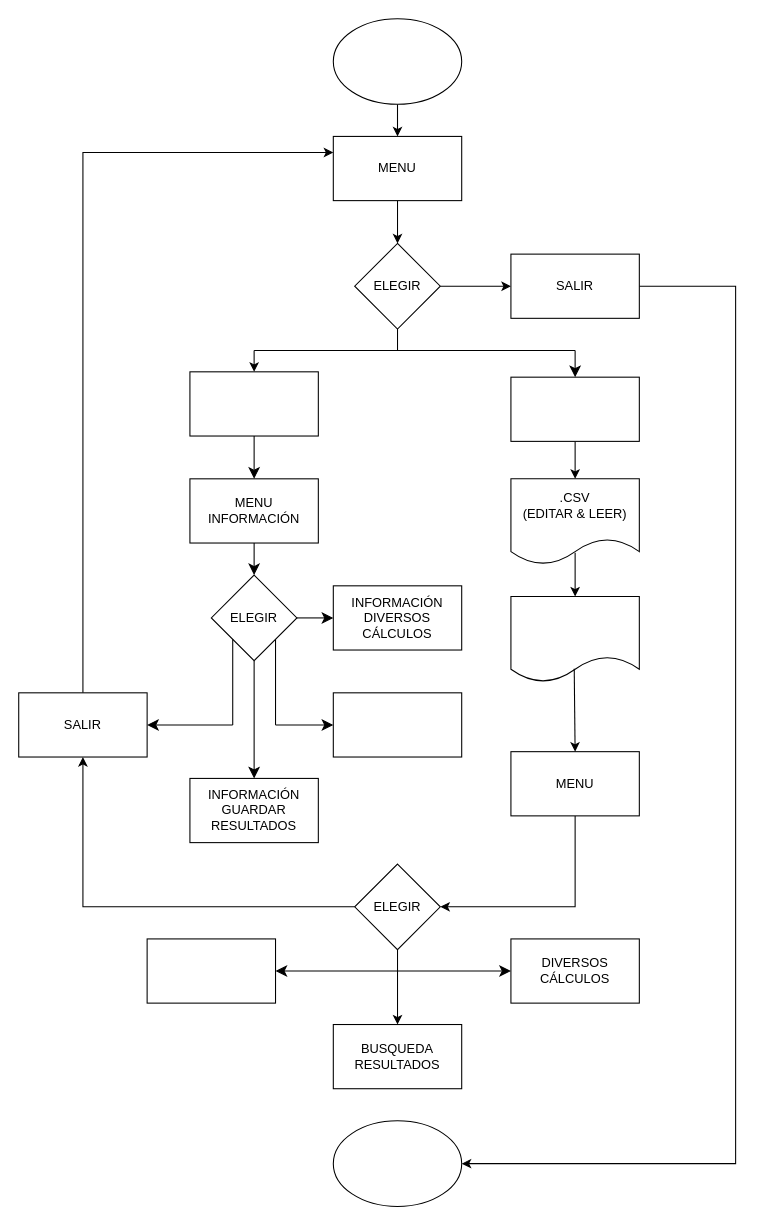
The diagram is 763 pixels wide and 1225 high, and some of its shapes have lost their labels. Here are the shapes that lost their labels. From the top down, the centre of each, then its label:
point (397, 61): INICIO
point (253, 403): INFORMACIÓN
point (574, 408): CARGAR FICHERO
point (574, 638): .TXT (RESULTADO)
point (397, 724): INFORMACIÓN ORDENAR DATOS
point (211, 970): CARGAR RESULTADOS
point (397, 1163): FIN
